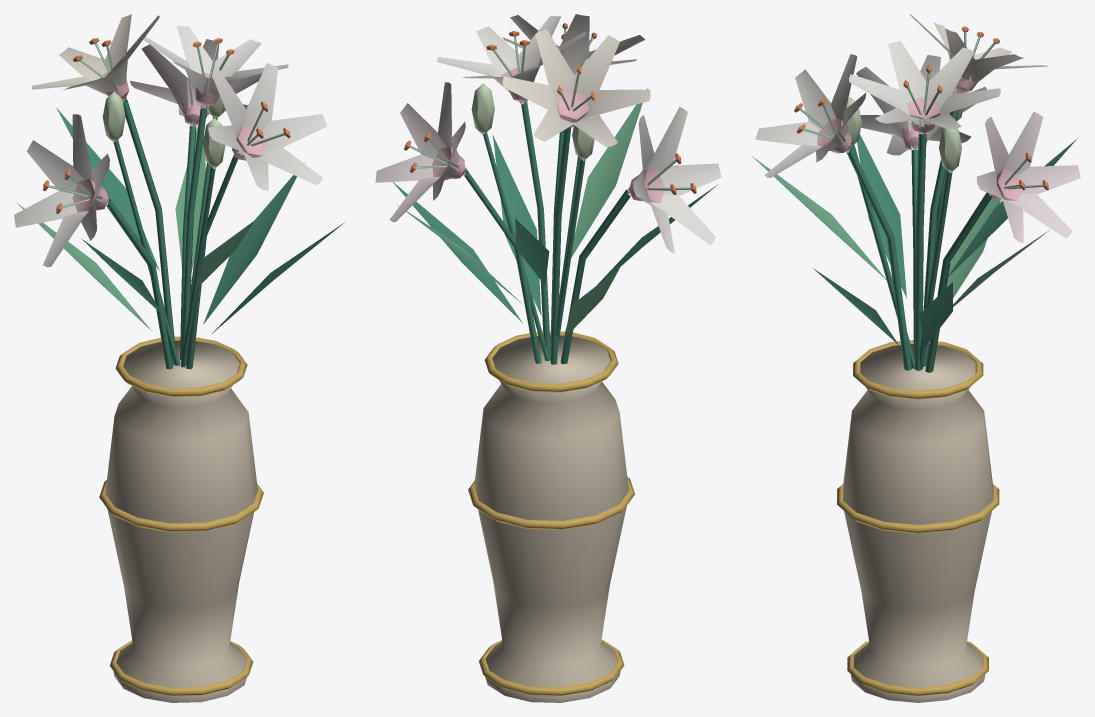
Rendered from vase_lilies.glb.
3 views of the same model, side by side, from view 1: azimuth 30°, elevation 25°; view 2: azimuth 150°, elevation 25°; view 3: azimuth 270°, elevation 25° (orthographic). The views are drawn at different scales.
Parts seen in each view (by area): view 1: vase_lilies; view 2: vase_lilies; view 3: vase_lilies.
Boxes of the visible parts, x1,y1,x2,y2 form: vase_lilies: (14,14,344,702); vase_lilies: (375,14,721,702); vase_lilies: (751,14,1080,702).
Size of what is drawn, in the model's own units: 0.35 by 0.75 by 0.35.
